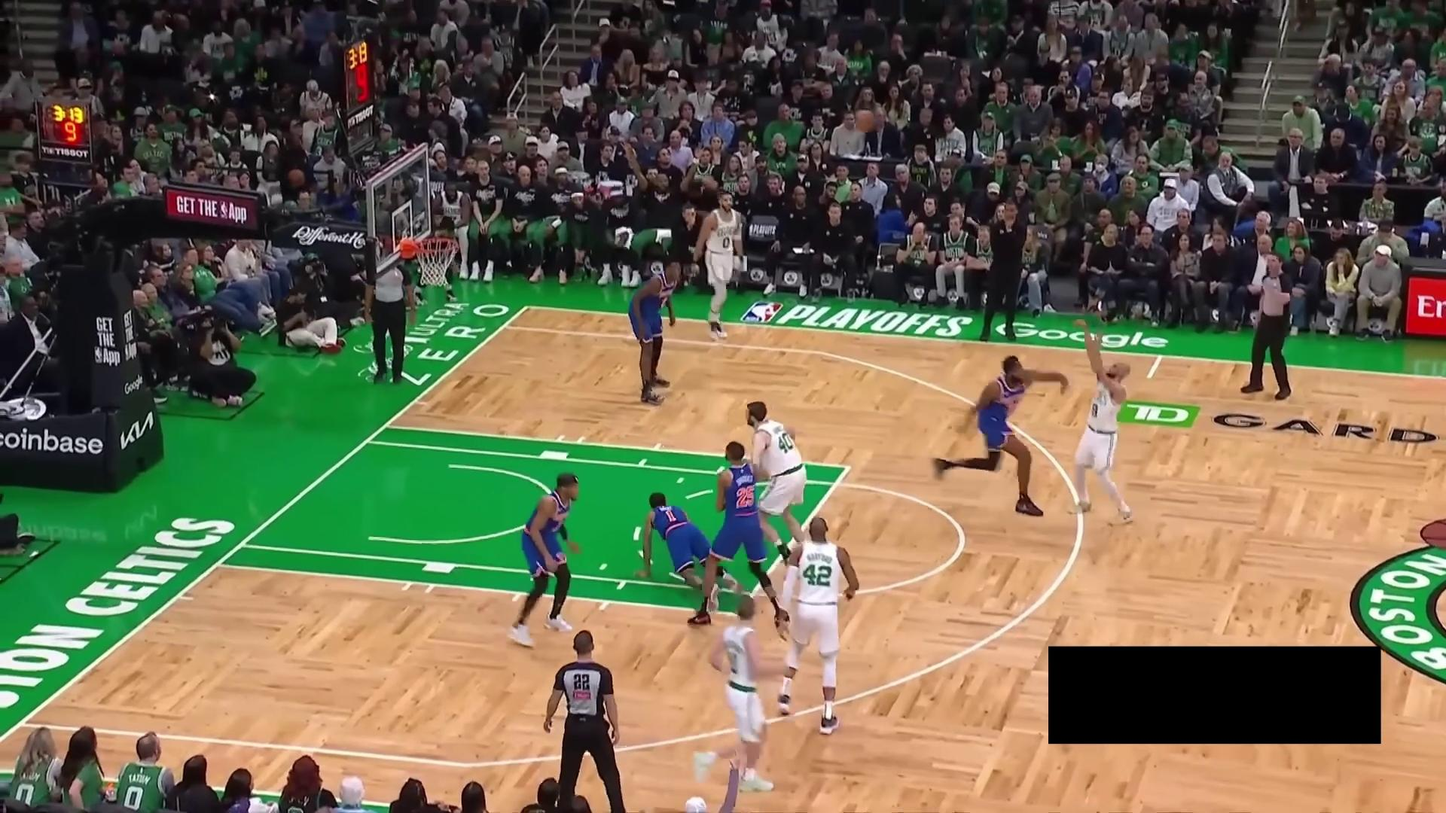ball: (851, 107, 879, 134)
number: (800, 564, 832, 588), (733, 483, 758, 510), (776, 431, 795, 455), (662, 507, 678, 523), (722, 235, 730, 249)
player: (930, 355, 1073, 516), (774, 513, 865, 734), (686, 440, 789, 633), (691, 595, 777, 792), (503, 466, 587, 650), (640, 485, 744, 628), (1065, 317, 1136, 525), (738, 396, 818, 569), (622, 256, 684, 408), (695, 188, 749, 342)
referee: (544, 625, 625, 813), (1242, 249, 1295, 405), (358, 257, 420, 388)
rim: (416, 236, 460, 256)
